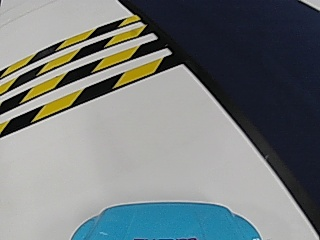bump: (7, 25, 140, 115)
